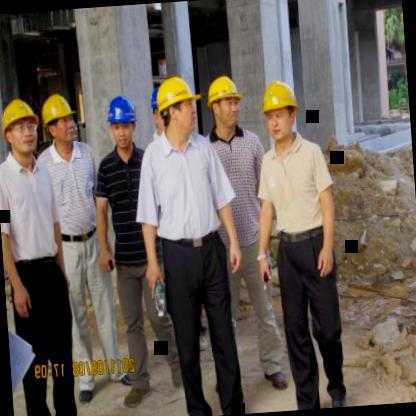helmet: (154, 74, 204, 147), (258, 75, 304, 149), (0, 90, 43, 163), (204, 71, 244, 135), (38, 92, 76, 152), (106, 90, 140, 157)
